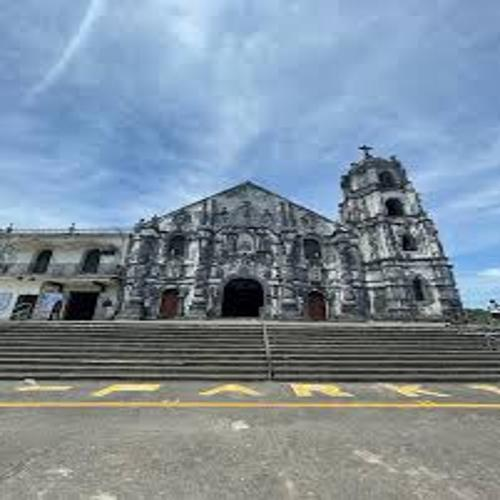Daraga Church: (119, 140, 469, 334)
